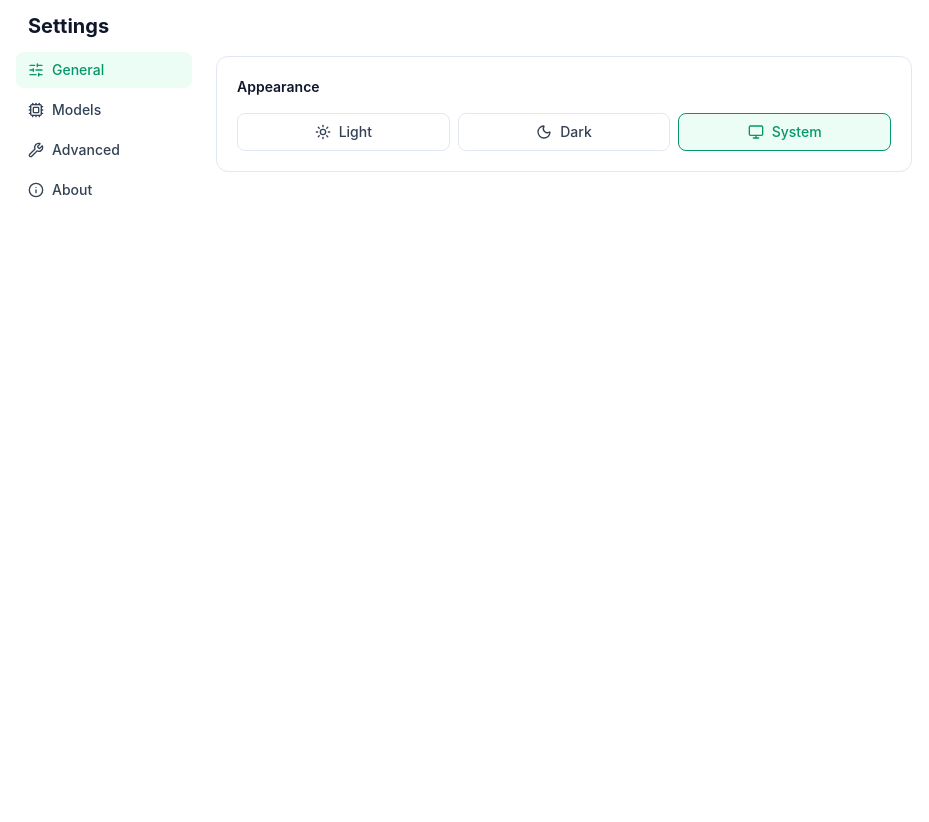
Test: Settings sections › Advanced → Stored keys › renders generic credential rows
Click the button "Advanced": (104, 150) [16, 132, 192, 168]
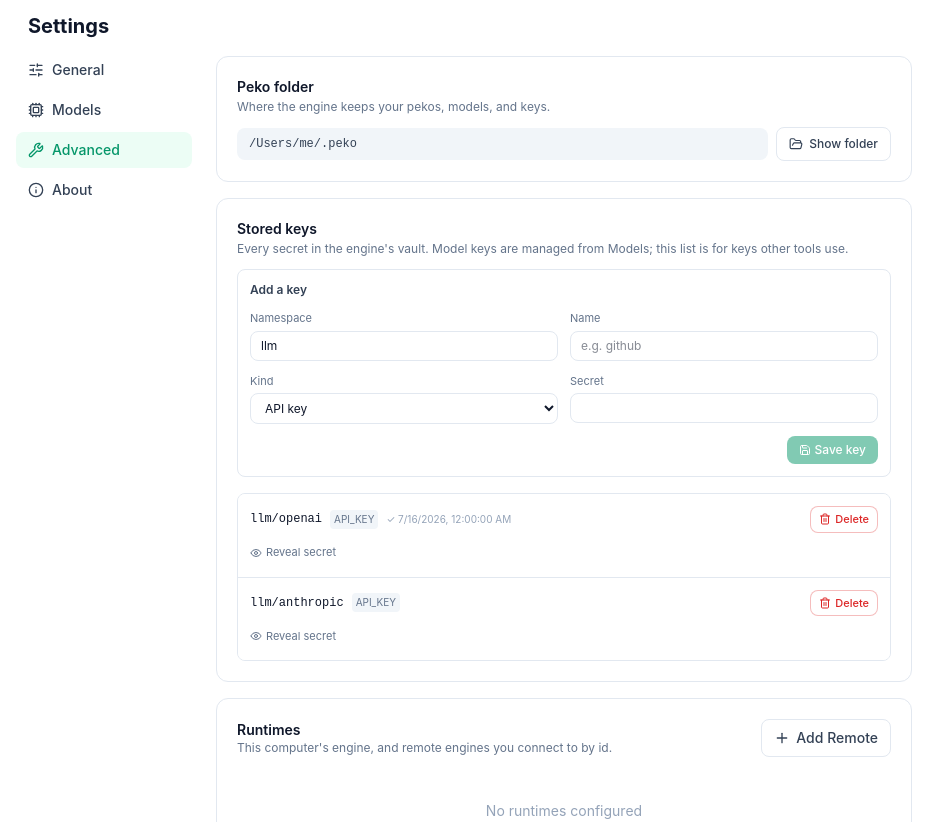
Expected: the element with test id "credentials-rows" is shown, [237, 493, 891, 661]
Expected: the element with test id "credential-row-cred-1" is shown, [238, 494, 890, 578]
Expected: the element with test id "credential-row-cred-2" is shown, [238, 578, 890, 660]
